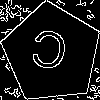C: (26, 28, 70, 81)
